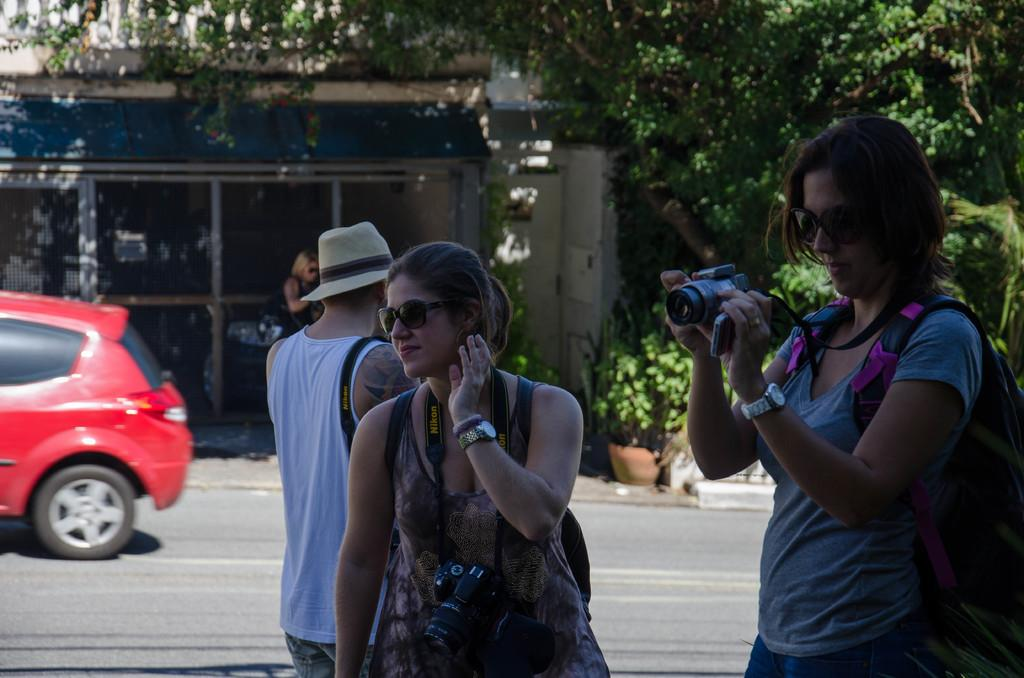Hat: (298, 219, 394, 302)
